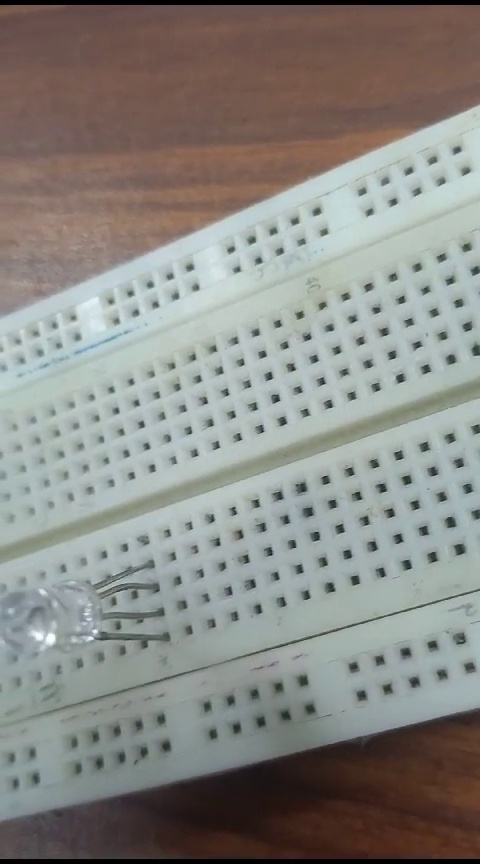LED: (3, 573, 164, 659)
